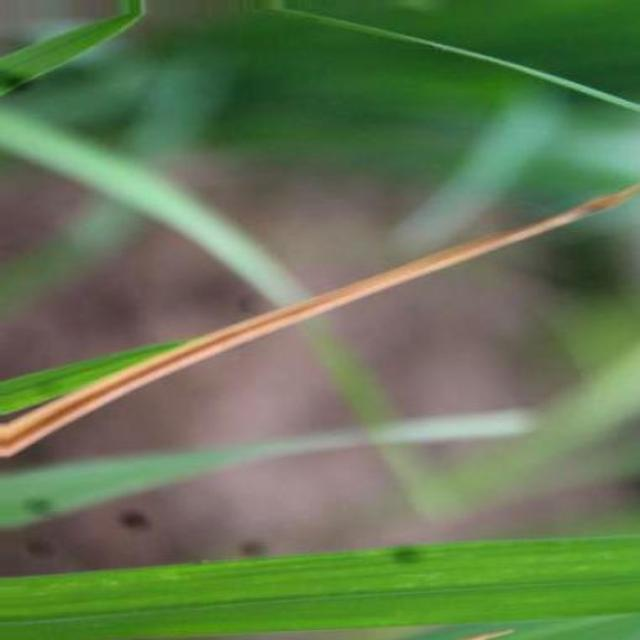Rice Tungro: (0, 186, 639, 457)
